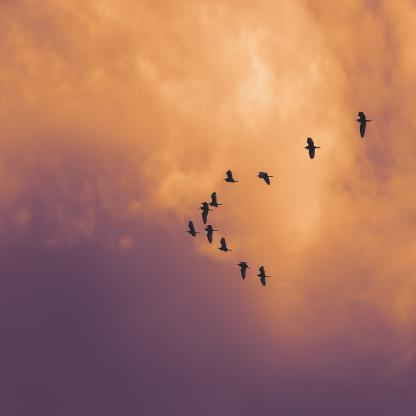bird: (356, 112, 372, 138), (198, 201, 214, 224), (304, 137, 320, 159), (203, 224, 218, 244), (257, 266, 270, 286), (208, 191, 223, 208), (256, 172, 274, 186), (236, 262, 250, 280), (186, 220, 200, 237), (223, 169, 239, 183), (218, 237, 232, 252)
